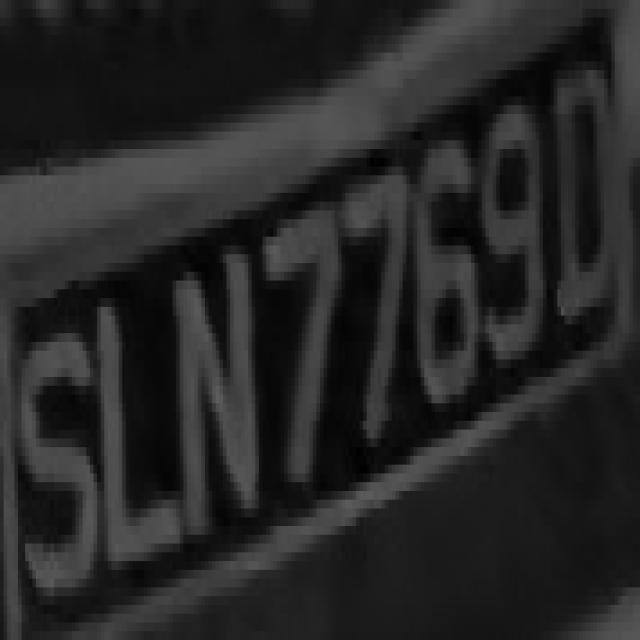6: (406, 131, 482, 421)
7: (256, 193, 334, 526), (331, 175, 410, 438)
9: (474, 105, 546, 403)
D: (550, 61, 619, 342)
L: (90, 263, 172, 561)
N: (172, 246, 270, 544)
S: (11, 324, 93, 622)
